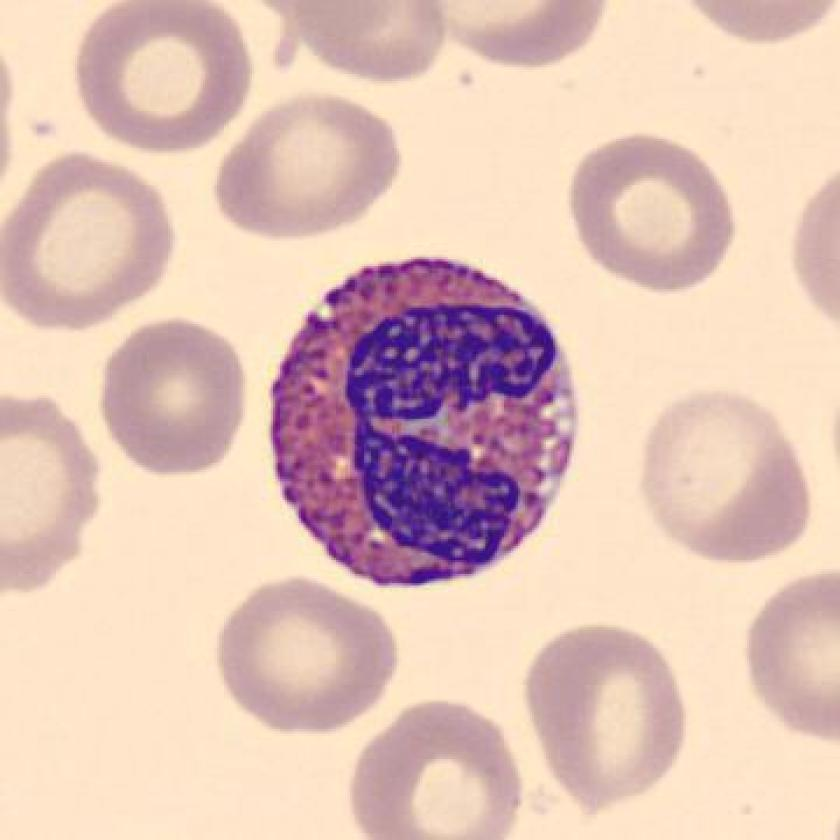eosinophil: (258, 246, 598, 603)
